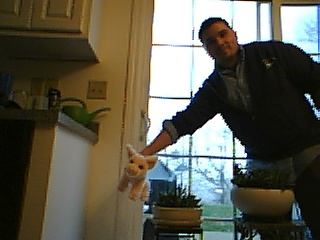piggy: (116, 143, 159, 204)
